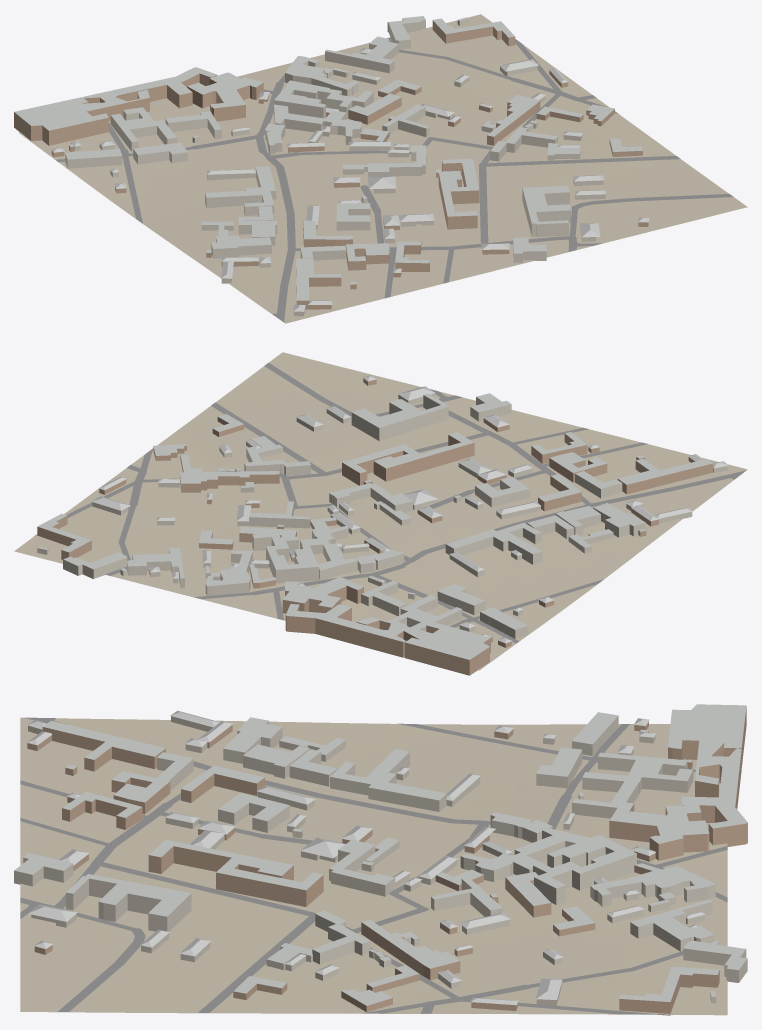
Rendered from bolak_1_8.glb.
3 views of the same model, one above another, from view 1: azimuth 30°, elevation 25°; view 2: azimuth 150°, elevation 25°; view 3: azimuth 270°, elevation 25° (orthographic). The views are drawn at different scales.
Parts seen in each view (by area): view 1: Yer_Tuproq-col, Tom_Shifer, Devor_Suvoq-col, Devor_Gisht-col, Yol_Mahalla-col; view 2: Yer_Tuproq-col, Tom_Shifer, Devor_Suvoq-col, Devor_Gisht-col, Yol_Mahalla-col; view 3: Yer_Tuproq-col, Tom_Shifer, Devor_Suvoq-col, Devor_Gisht-col, Yol_Mahalla-col.
Part boxes in pixels (bbox=[...]): Yer_Tuproq-col: bbox=[19, 14, 747, 323]; Tom_Shifer: bbox=[14, 16, 649, 311]; Devor_Suvoq-col: bbox=[65, 18, 605, 316]; Devor_Gisht-col: bbox=[14, 20, 648, 309]; Yol_Mahalla-col: bbox=[55, 37, 733, 322]; Yer_Tuproq-col: bbox=[14, 352, 747, 670]; Tom_Shifer: bbox=[37, 375, 728, 659]; Devor_Suvoq-col: bbox=[37, 393, 727, 638]; Devor_Gisht-col: bbox=[37, 378, 713, 675]; Yol_Mahalla-col: bbox=[33, 362, 745, 643]; Yer_Tuproq-col: bbox=[20, 717, 727, 1015]; Tom_Shifer: bbox=[14, 704, 747, 1005]; Devor_Suvoq-col: bbox=[14, 716, 747, 1005]; Devor_Gisht-col: bbox=[27, 706, 747, 1015]; Yol_Mahalla-col: bbox=[20, 717, 727, 1014].
Size of what is drawn, in the model's own units: 404 by 16.84 by 415.
